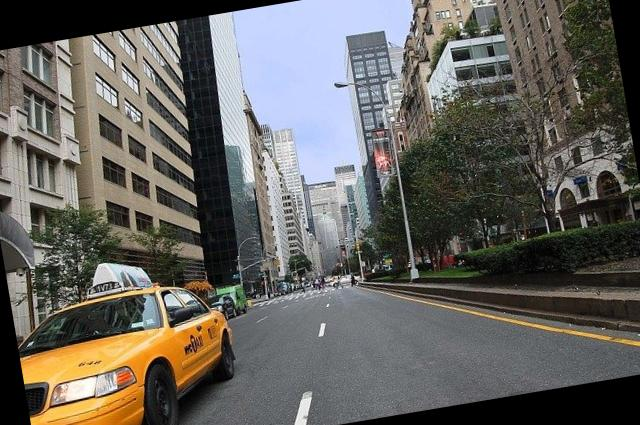taxi: (1, 284, 237, 425)
